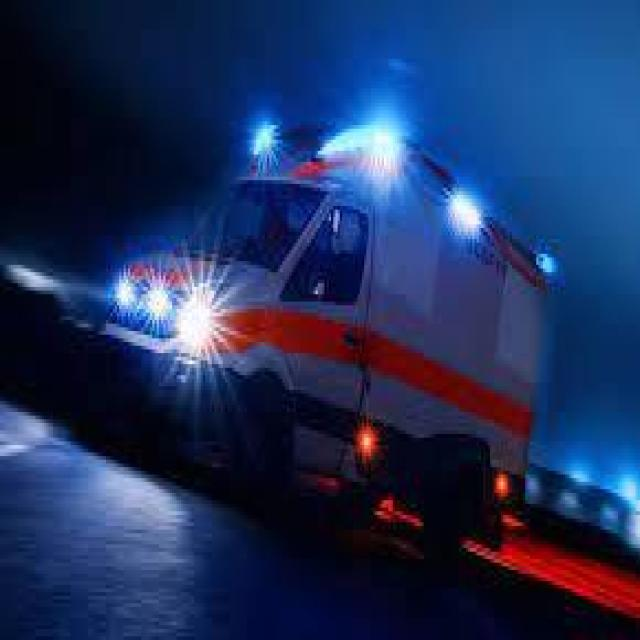ambulance: (241, 96, 568, 334)
